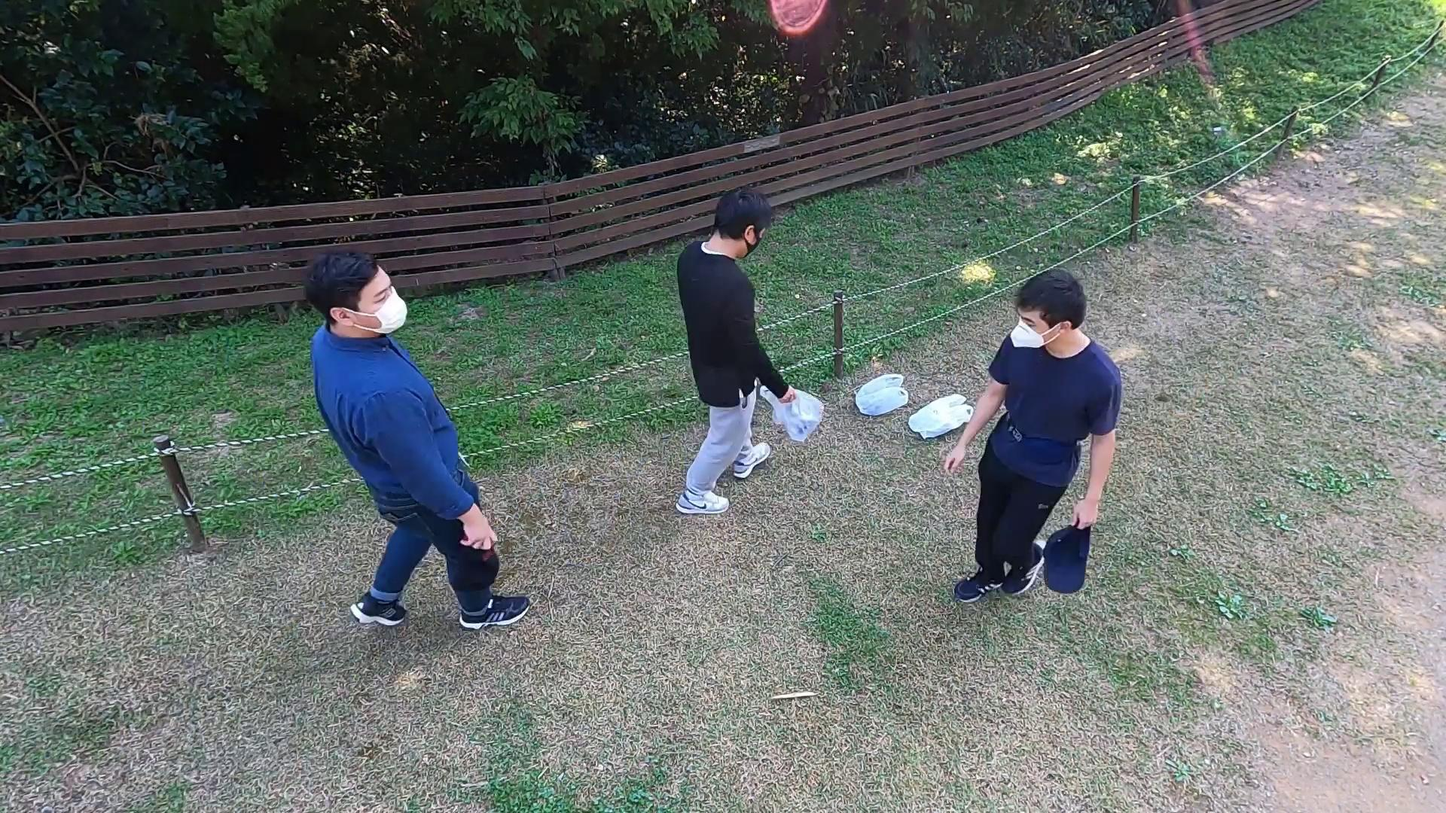person: (294, 245, 535, 635), (938, 270, 1122, 605), (672, 187, 797, 518)
trash: (757, 379, 824, 442), (907, 389, 973, 440), (853, 369, 907, 415)
